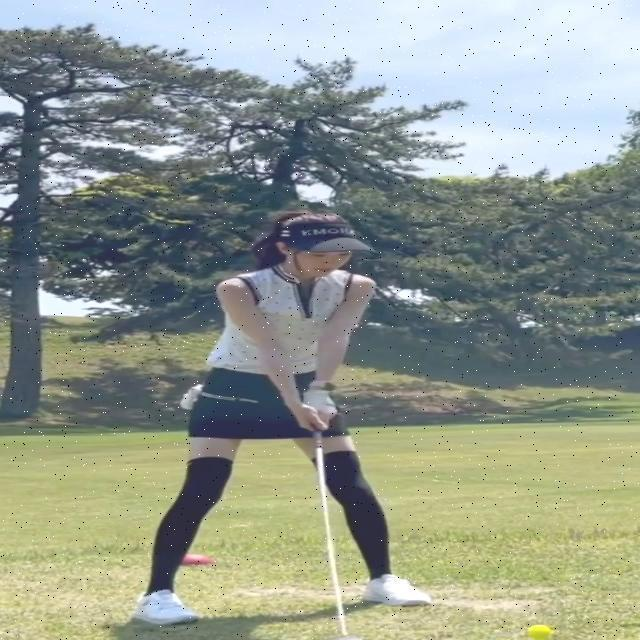ClubHead: (324, 633, 360, 640)
GolfBall: (527, 625, 552, 640)
